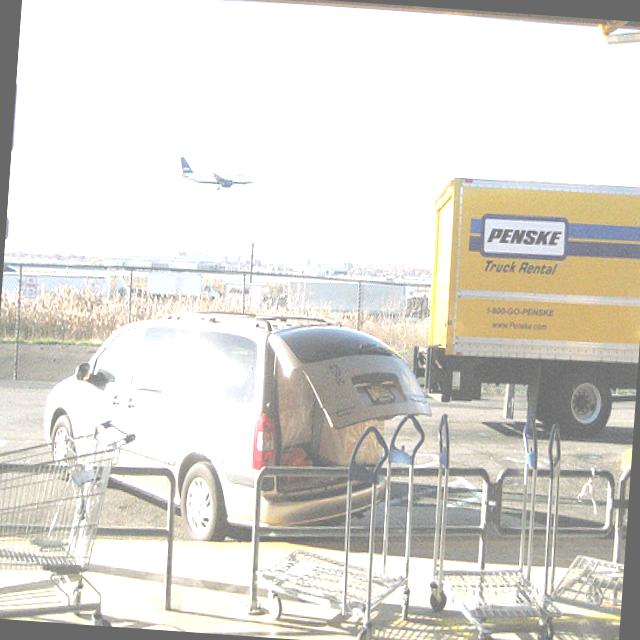Vehicle: (31, 299, 440, 558), (415, 175, 640, 463)
